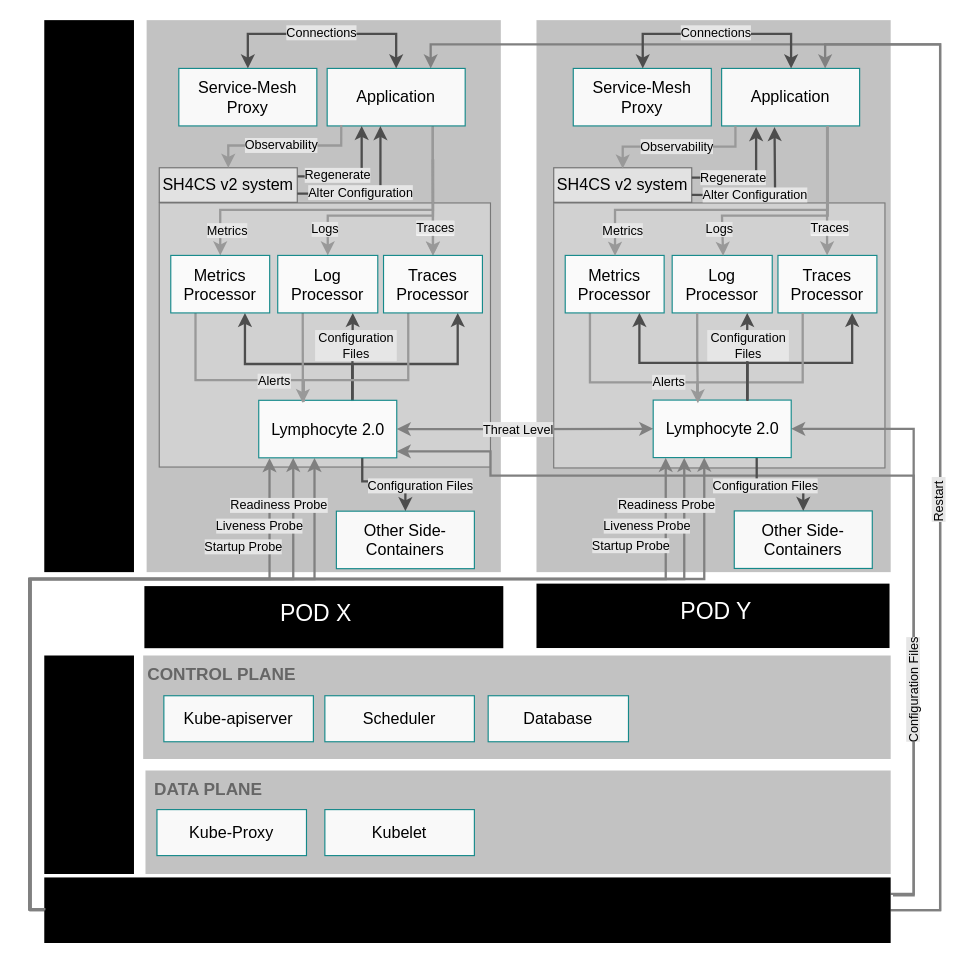
This 969x963 diagram has some shape labels left out. The box of each missing label's shape, as (x1, y1, x2, y2) in pixels:
CLUSTER: (44, 877, 890, 942)
CONTAINER: (44, 20, 133, 572)
NODE: (44, 655, 133, 873)
